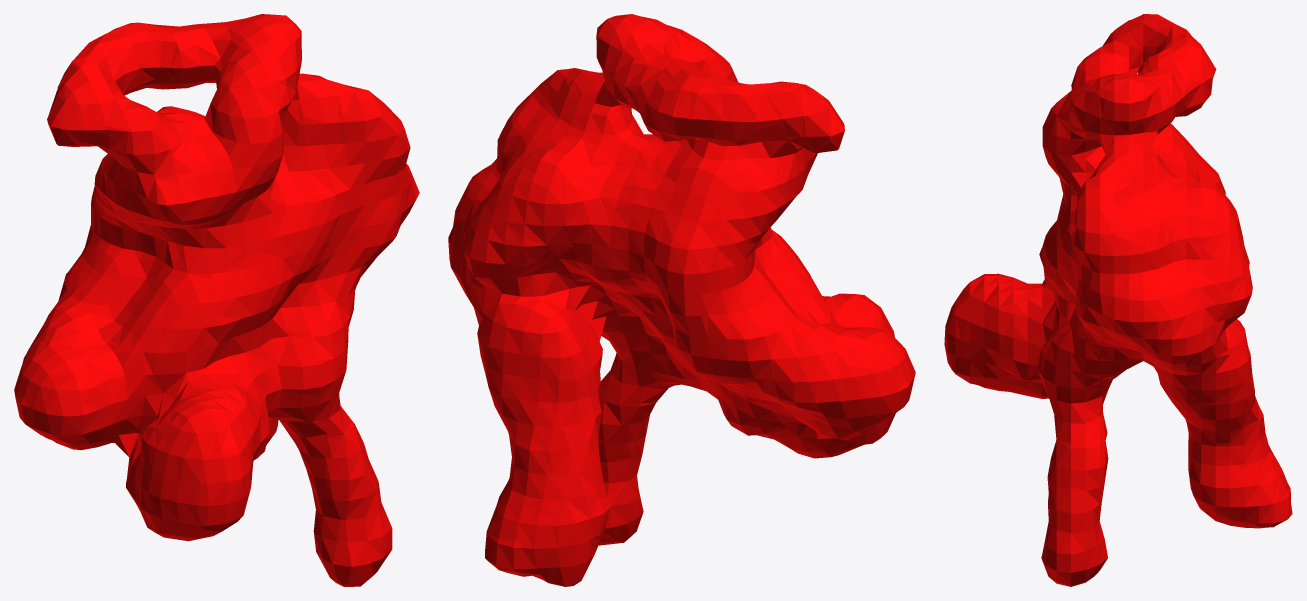
File: dppB_coarse.dae
3 renders of one model, left to right at view 1: azimuth 30°, elevation 25°; view 2: azimuth 150°, elevation 25°; view 3: azimuth 270°, elevation 25°, orthographic. The views are drawn at different scales.
Visible parts, largest first — view 1: dppB; view 2: dppB; view 3: dppB.
Part boxes in pixels (<box>): dppB: <box>14,14,419,586</box>; dppB: <box>448,14,915,586</box>; dppB: <box>944,14,1292,586</box>.
Size of the model in its own units: 70.82 by 91.08 by 59.02.
